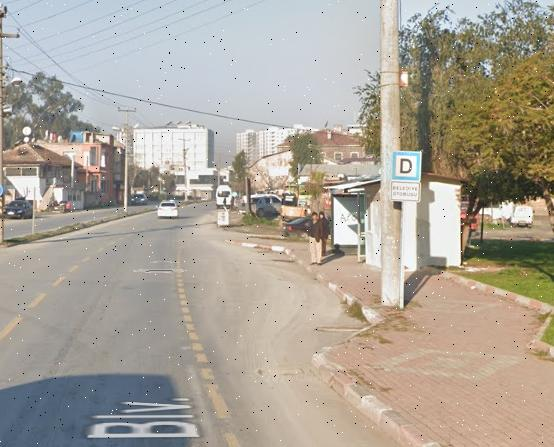station: (394, 151, 421, 181)
